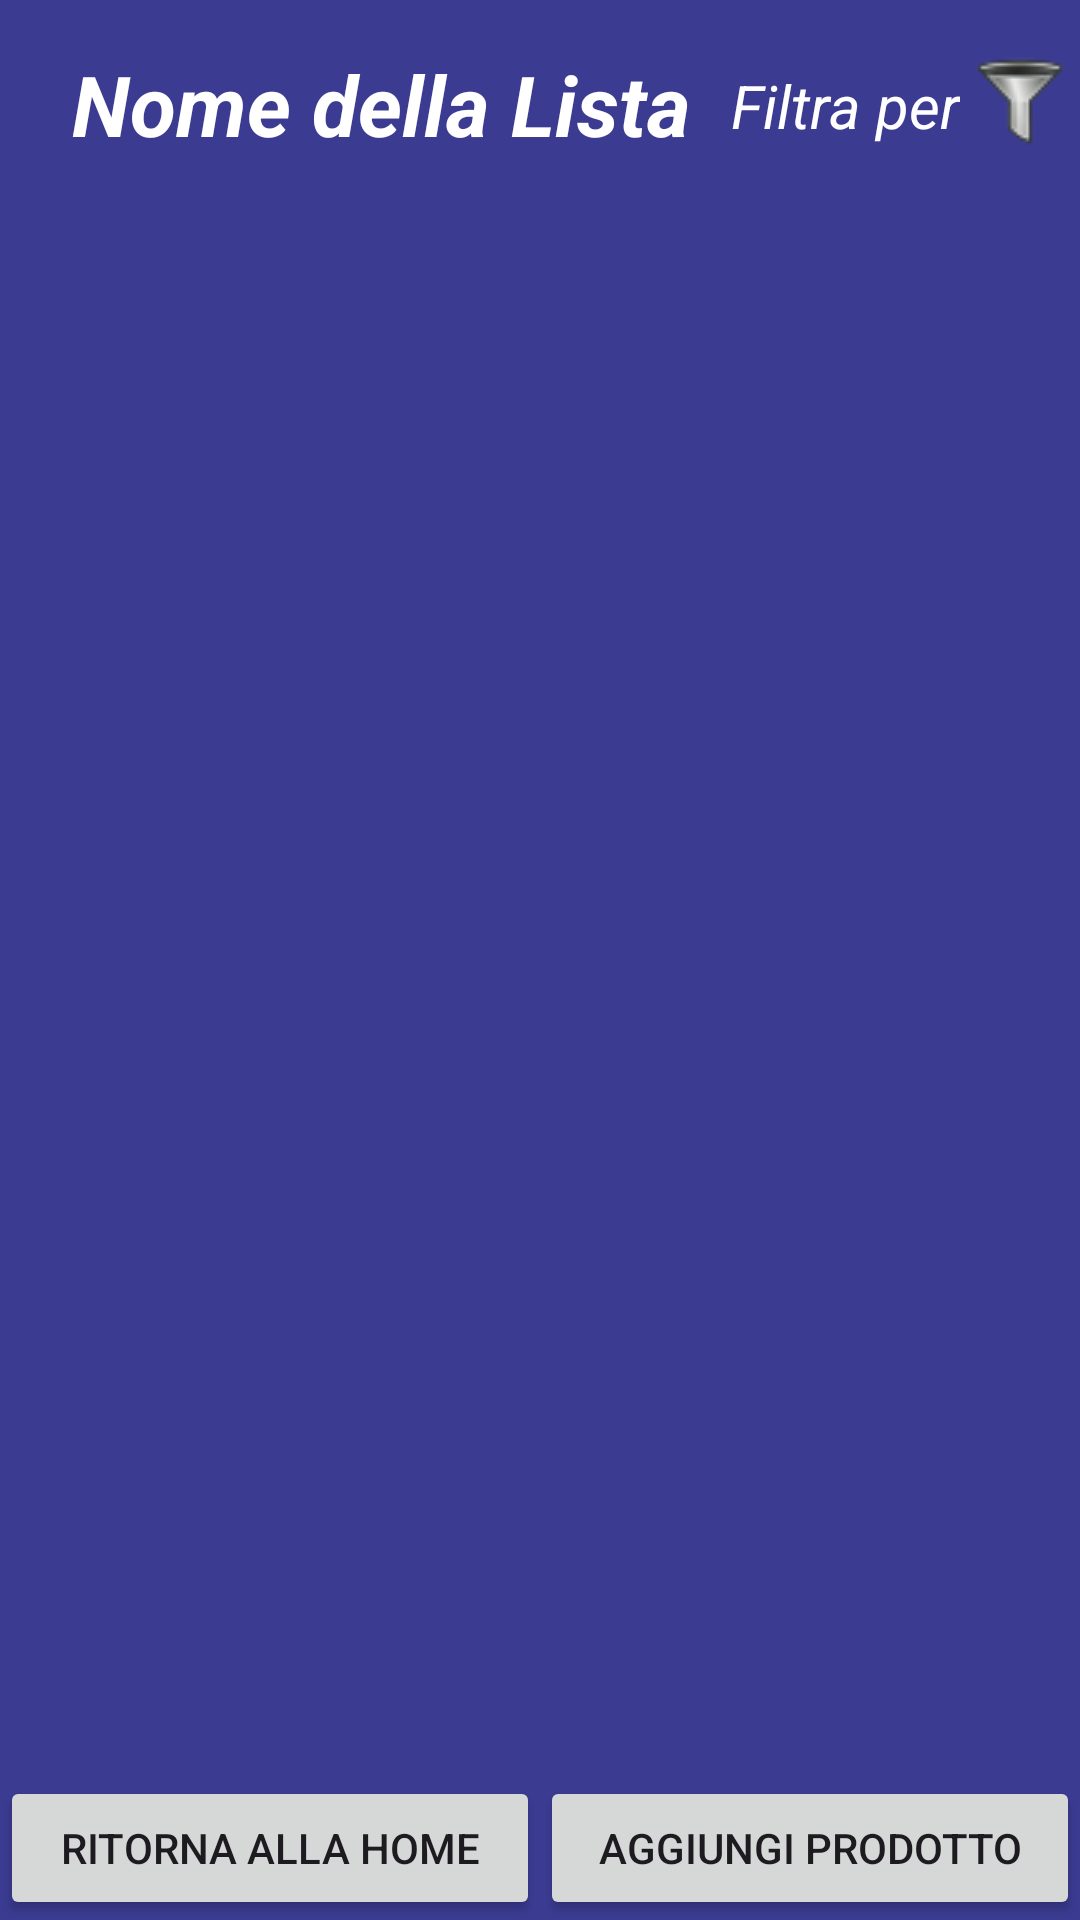

Where to tap for icons on this 1080×1920 app screen, as (x,y):
filter: (1020,101)
